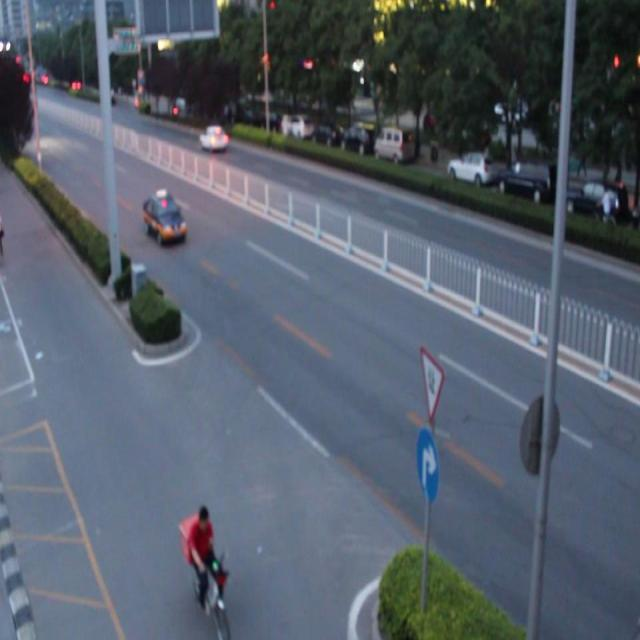car: (141, 191, 188, 248)
